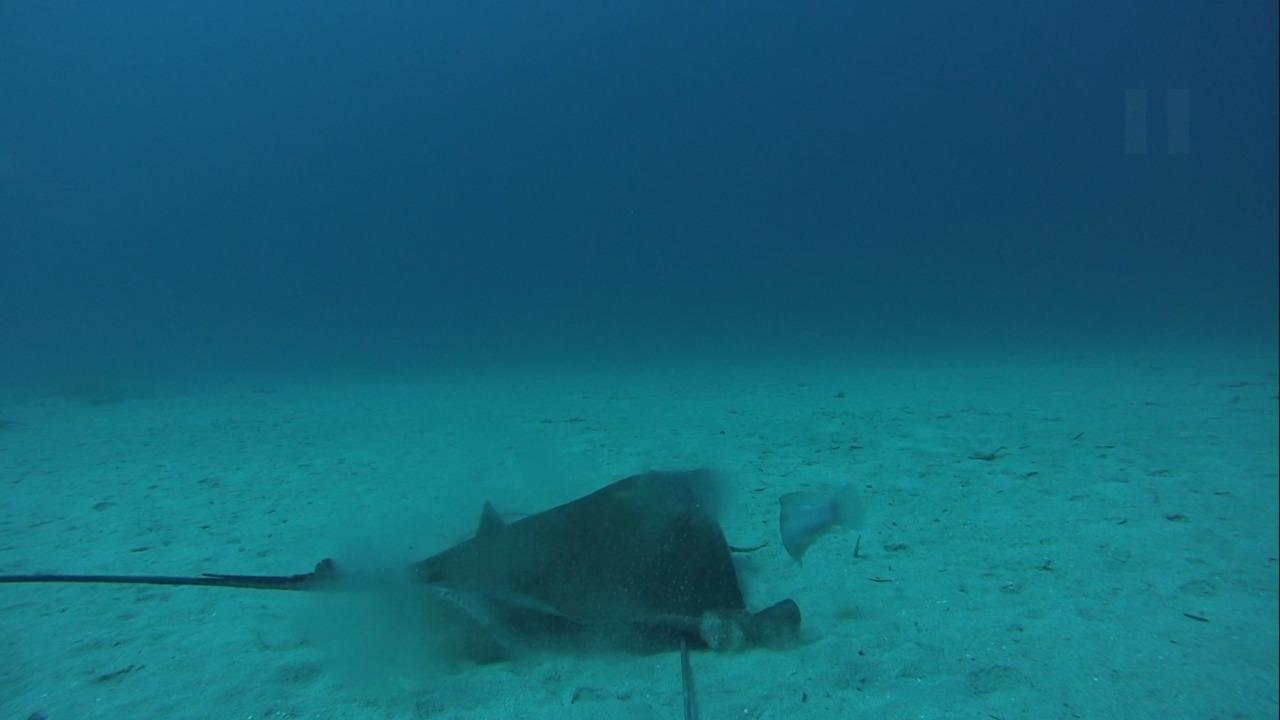myliobatis: (4, 460, 804, 661)
raor: (772, 478, 872, 568)
